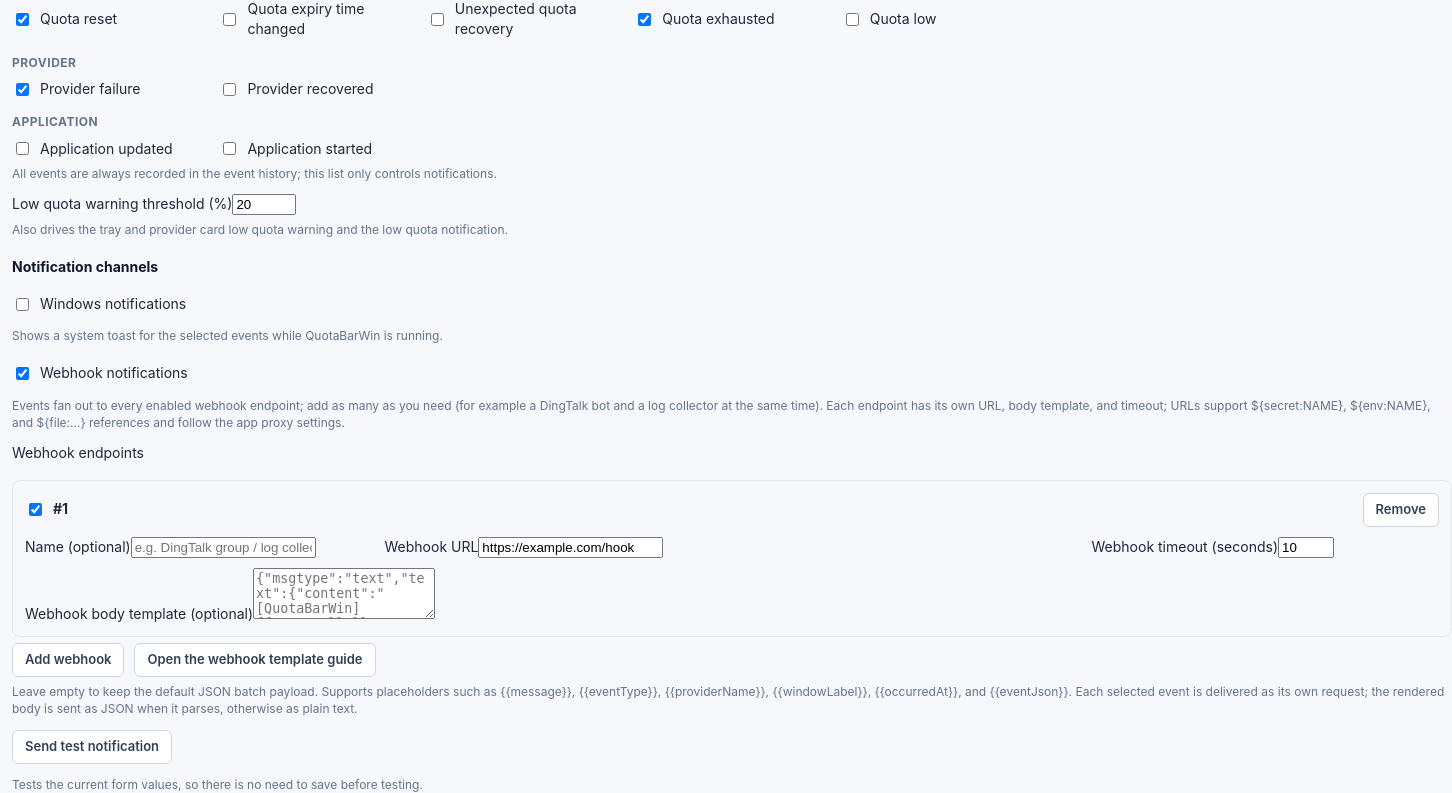
Test: NotificationSettingsSection › the test button reports one line per webhook endpoint
(page scrolled)
Click the button with test id "notification-test-button" at (92, 747), box [12, 730, 172, 764]
(page scrolled)
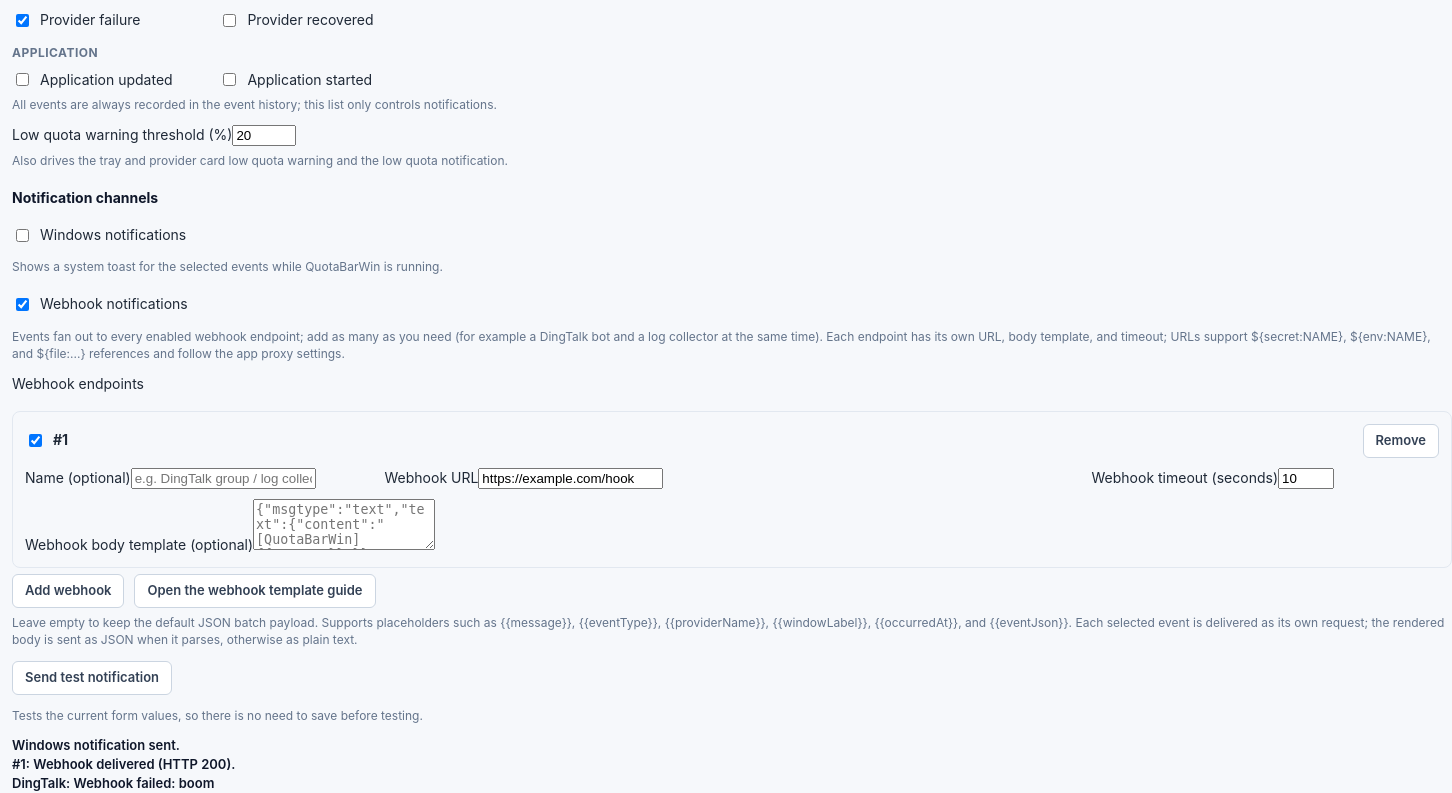
expect the element with test id "notification-test-message" shows "#1: Webhook delivered (HTTP 200)": met, box [12, 756, 235, 772]
expect the element with test id "notification-test-message" shows "DingTalk: Webhook failed: boom": met, box [12, 775, 214, 791]
